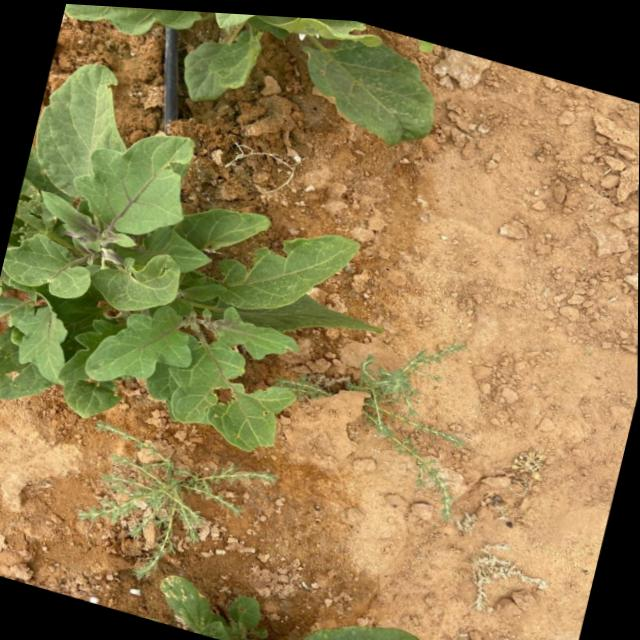eggplant: (0, 62, 353, 447)
weeds: (78, 421, 276, 577), (349, 337, 465, 514)
